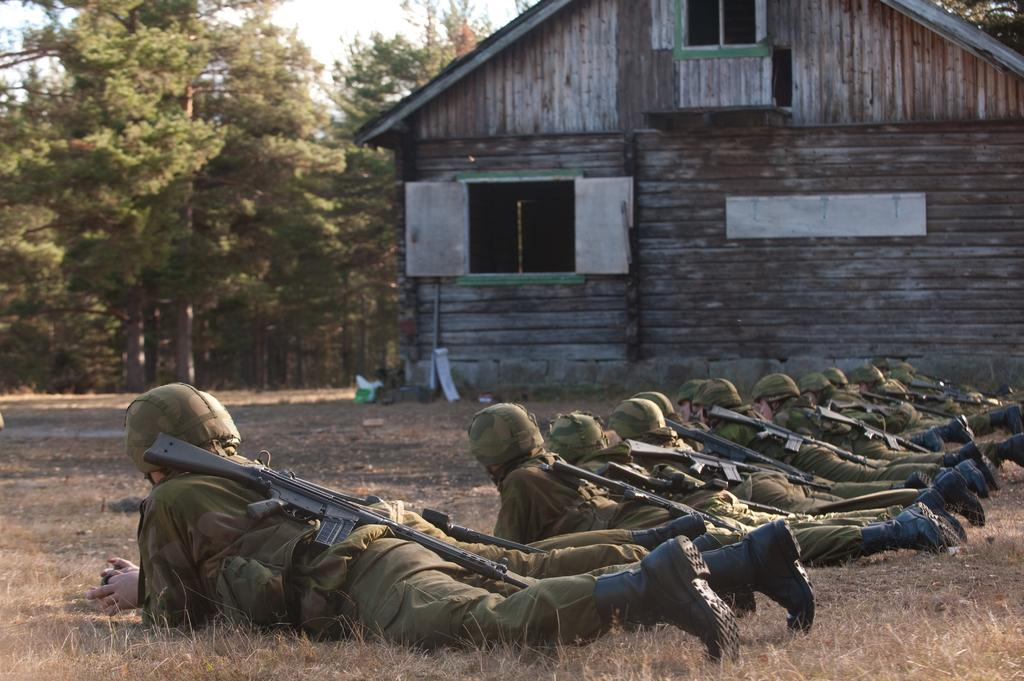Rifle: (138, 433, 529, 589), (552, 458, 750, 534), (708, 400, 879, 471), (619, 439, 834, 495), (600, 460, 805, 517), (829, 374, 1015, 434), (663, 419, 818, 480), (419, 509, 552, 552), (818, 406, 938, 453)
